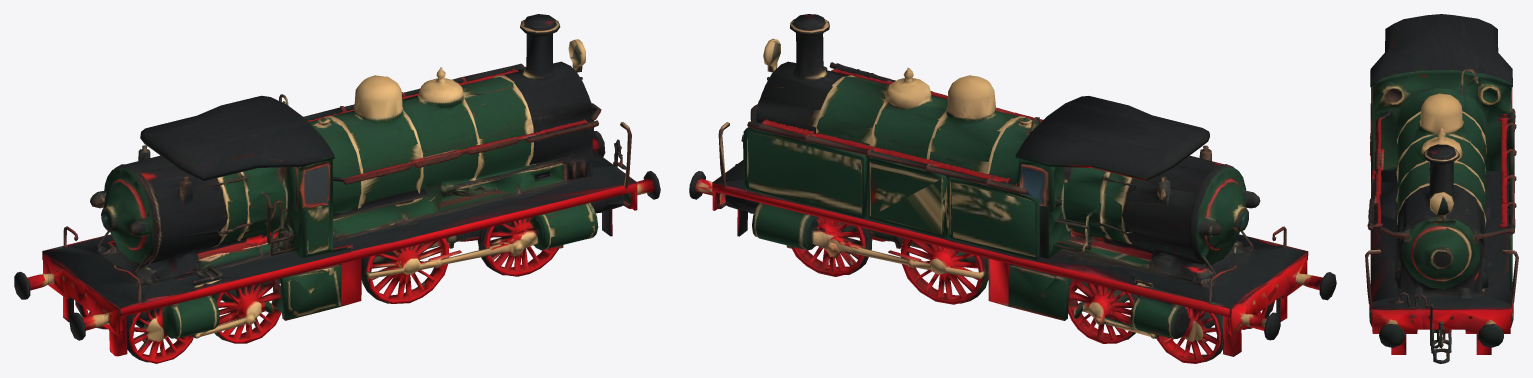
The model's file is locomotive.glb.
3 renders of one model, left to right at view 1: azimuth 30°, elevation 25°; view 2: azimuth 150°, elevation 25°; view 3: azimuth 270°, elevation 25°, orthographic. The views are drawn at different scales.
Visible parts, largest first — view 1: body; view 2: body; view 3: body.
Part boxes in pixels (x1,y1,x2,y2): body: (14, 14, 660, 363); body: (689, 14, 1336, 363); body: (1365, 14, 1518, 363).
Bounding box in the file's own units: 8.87 × 3.3 × 2.27.
1 material, 1 textured.
